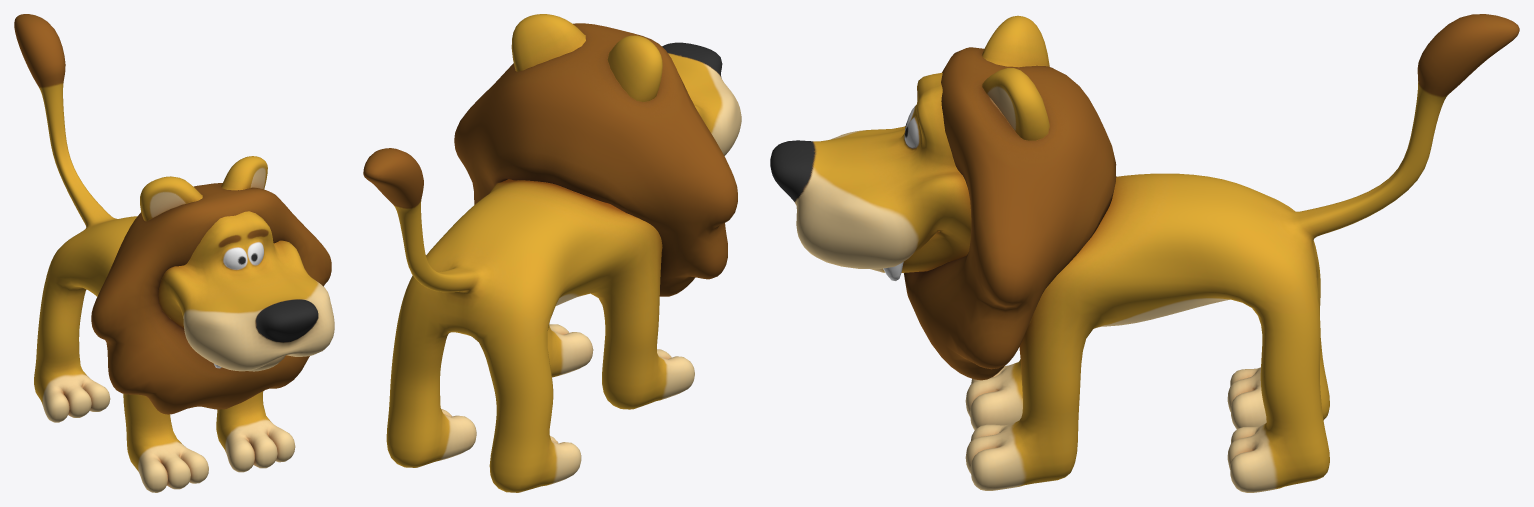
File: lion.glb
3 renders of one model, left to right at view 1: azimuth 30°, elevation 25°; view 2: azimuth 150°, elevation 25°; view 3: azimuth 270°, elevation 25°, orthographic. The views are drawn at different scales.
Visible parts, largest first — view 1: CartoonCat.001, Cube.013; view 2: CartoonCat.001, Cube.013; view 3: CartoonCat.001, Cube.013.
Part boxes in pixels (x1,y1,x2,y2): CartoonCat.001: (14, 14, 334, 492); Cube.013: (91, 183, 331, 414); CartoonCat.001: (363, 14, 741, 492); Cube.013: (454, 23, 737, 296); CartoonCat.001: (770, 14, 1519, 492); Cube.013: (904, 47, 1116, 380).
Bounding box in the file's own units: 0.486 × 0.6389 × 1.
Materials: 1 (1 with a texture image).
